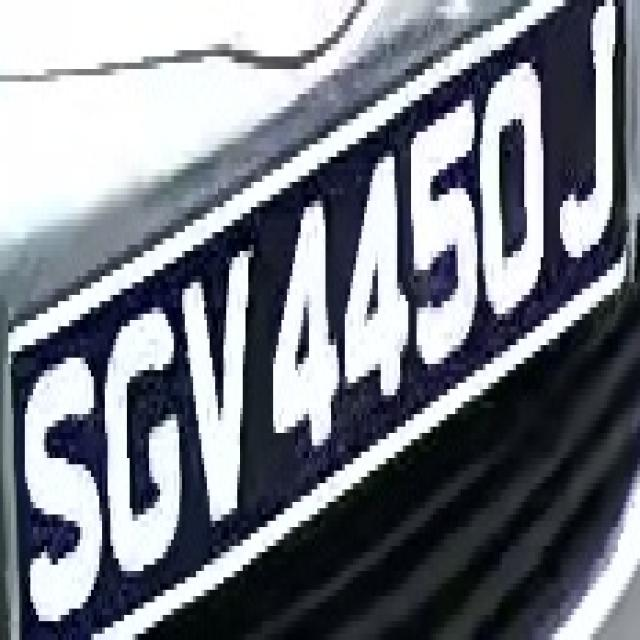0: (472, 69, 560, 345)
4: (262, 176, 345, 483), (331, 138, 419, 427)
5: (403, 94, 491, 383)
G: (96, 289, 190, 577)
J: (554, 12, 629, 295)
S: (17, 352, 113, 622)
V: (177, 257, 262, 552)
